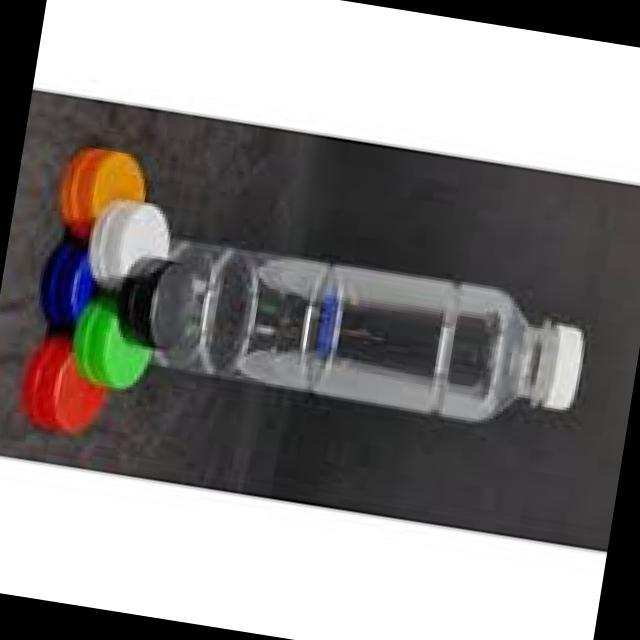good: (144, 193, 608, 494)
